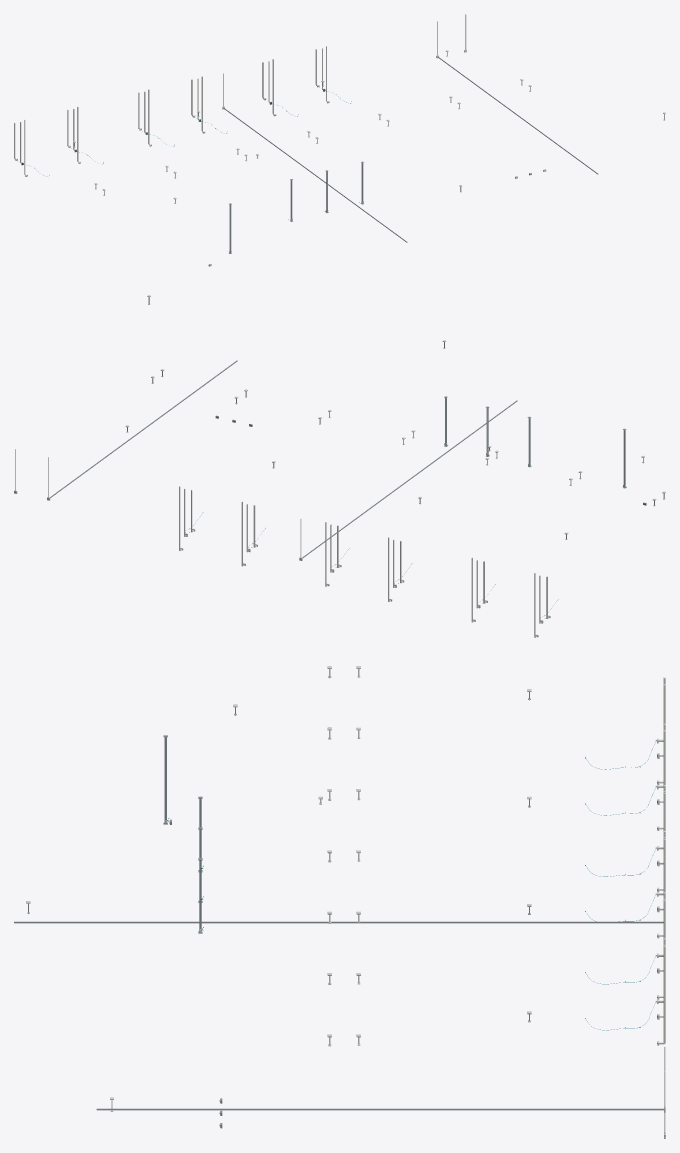
File: hospital-terminals.glb
3 renders of one model, top to bottom at view 1: azimuth 30°, elevation 25°; view 2: azimuth 150°, elevation 25°; view 3: azimuth 270°, elevation 25°, orthographic. The views are drawn at different scales.
Parts seen in each view (by area): view 1: Power__terminal-ivory, Security__terminal-metal, Telecom__terminal-ivory, Data__terminal-ivory, Data__terminal-metal; view 2: Data__terminal-ivory, Power__terminal-ivory, Security__terminal-metal, Telecom__terminal-ivory; view 3: Security__terminal-metal, Power__terminal-ivory, Data__terminal-metal.
Part boxes in pixels (x1,y1,x2,y2): Power__terminal-ivory: [24, 46, 546, 266]; Security__terminal-metal: [223, 56, 598, 242]; Telecom__terminal-ivory: [20, 48, 523, 189]; Data__terminal-ivory: [14, 49, 363, 252]; Data__terminal-metal: [34, 125, 363, 253]; Data__terminal-ivory: [191, 397, 625, 618]; Power__terminal-ivory: [179, 486, 538, 637]; Security__terminal-metal: [15, 360, 517, 557]; Telecom__terminal-ivory: [151, 376, 656, 623]; Security__terminal-metal: [14, 921, 665, 1136]; Power__terminal-ivory: [169, 685, 665, 1127]; Data__terminal-metal: [163, 735, 640, 1027].
Size of the model in its own units: 28.22 by 3.22 by 17.96.
